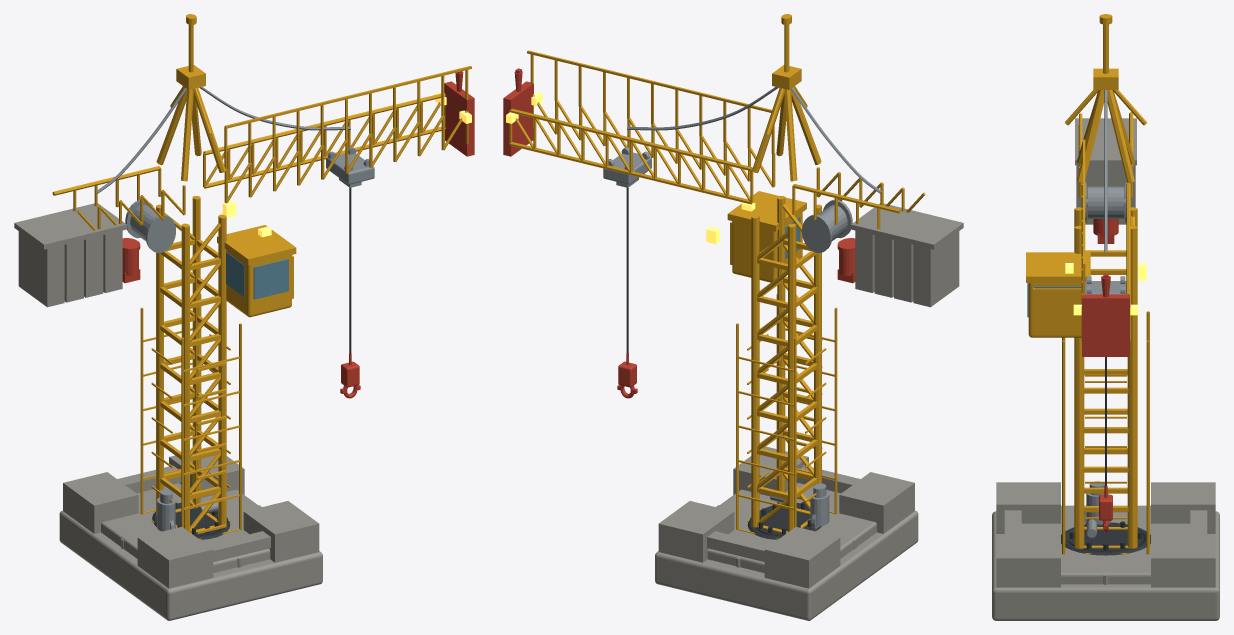
The model's file is tower_crane.glb.
3 views of the same model, side by side, from view 1: azimuth 30°, elevation 25°; view 2: azimuth 150°, elevation 25°; view 3: azimuth 270°, elevation 25° (orthographic). The views are drawn at different scales.
Visible parts, largest first — view 1: base_ballast, mast, jib, counterweights, cab_shell, tower_peak, counter_jib, cab_glass, jib_tip, hoist_drum, trolley, tie_bars (+4 smaller); view 2: base_ballast, mast, jib, counterweights, cab_shell, tower_peak, counter_jib, jib_tip, hoist_drum, slew_ring, tie_bars, trolley (+3 smaller); view 3: base_ballast, mast, cab_shell, tower_peak, jib_tip, counterweights, slew_ring, hoist_drum, jib, tie_bars, slewing_drive, trolley (+4 smaller).
Boxes of the visible parts, x1,y1,x2,y2 form: base_ballast: [59, 455, 322, 620]; mast: [140, 196, 241, 539]; jib: [203, 66, 471, 203]; counterweights: [14, 203, 126, 307]; cab_shell: [217, 225, 296, 317]; tower_peak: [156, 14, 225, 181]; counter_jib: [52, 166, 185, 230]; cab_glass: [226, 252, 288, 299]; jib_tip: [444, 71, 474, 156]; hoist_drum: [125, 200, 175, 252]; trolley: [326, 147, 374, 187]; tie_bars: [96, 87, 350, 193]; base_ballast: [655, 446, 918, 620]; mast: [736, 196, 837, 539]; jib: [509, 50, 775, 204]; counterweights: [851, 203, 963, 307]; cab_shell: [727, 191, 806, 282]; tower_peak: [752, 14, 821, 181]; counter_jib: [792, 167, 925, 229]; jib_tip: [503, 68, 533, 156]; hoist_drum: [802, 199, 852, 252]; slew_ring: [747, 502, 821, 539]; tie_bars: [627, 87, 881, 193]; trolley: [603, 147, 651, 187]; base_ballast: [992, 482, 1219, 620]; mast: [1062, 207, 1149, 554]; cab_shell: [1026, 252, 1090, 337]; tower_peak: [1065, 14, 1146, 182]; jib_tip: [1082, 273, 1129, 356]; counterweights: [1075, 118, 1136, 224]; slew_ring: [1061, 521, 1150, 555]; hoist_drum: [1085, 182, 1126, 223]; jib: [1081, 139, 1130, 341]; tie_bars: [1104, 90, 1107, 251]; slewing_drive: [1084, 481, 1110, 537]; trolley: [1085, 276, 1126, 294].
Size of the model in its own units: 3.69 by 4.45 by 1.62.
